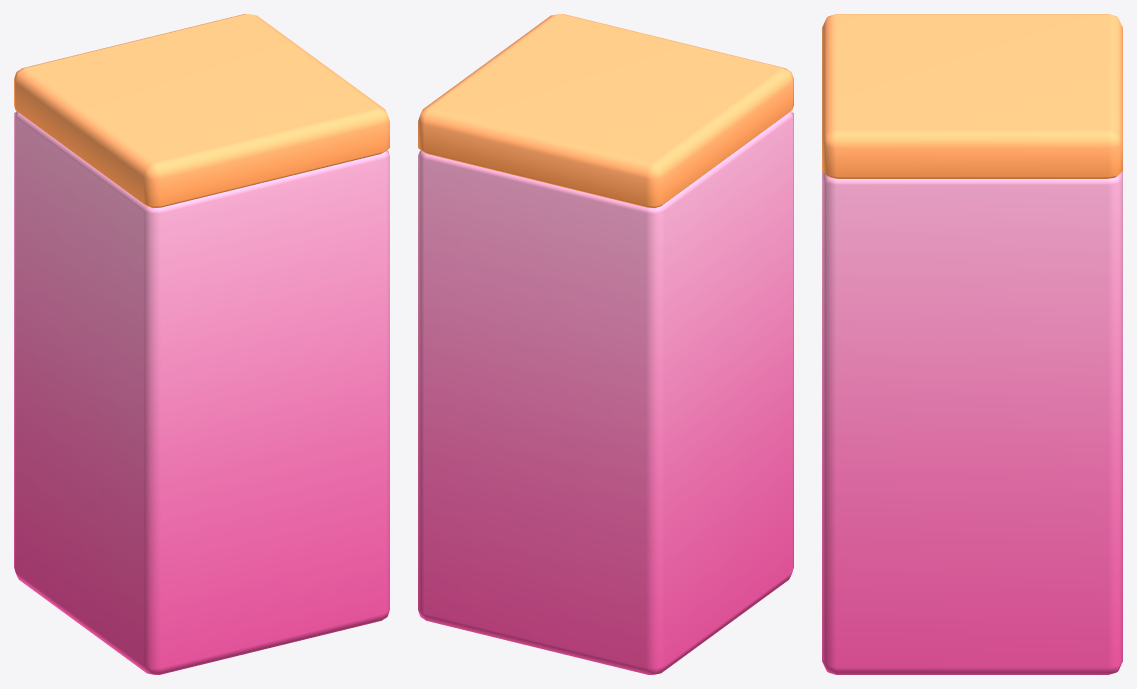
The model's file is Platform_05.glb.
3 views of the same model, side by side, from view 1: azimuth 30°, elevation 25°; view 2: azimuth 150°, elevation 25°; view 3: azimuth 270°, elevation 25° (orthographic). The views are drawn at different scales.
Visible parts, largest first — view 1: Platform_05; view 2: Platform_05; view 3: Platform_05.
Boxes of the visible parts, x1=… form: Platform_05: x1=14, y1=14, x2=389, y2=674; Platform_05: x1=418, y1=14, x2=793, y2=674; Platform_05: x1=822, y1=14, x2=1122, y2=674.
Bounding box in the file's own units: 6 × 12 × 6.
Materials: 1 (1 with a texture image).
